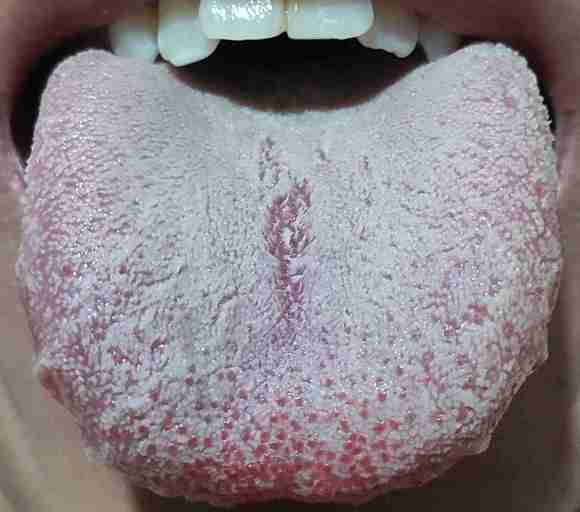baitaishe: (19, 46, 563, 508)
hongdianshe: (370, 420, 386, 435), (274, 394, 289, 408), (374, 387, 387, 403), (217, 427, 230, 441), (181, 373, 194, 387)
